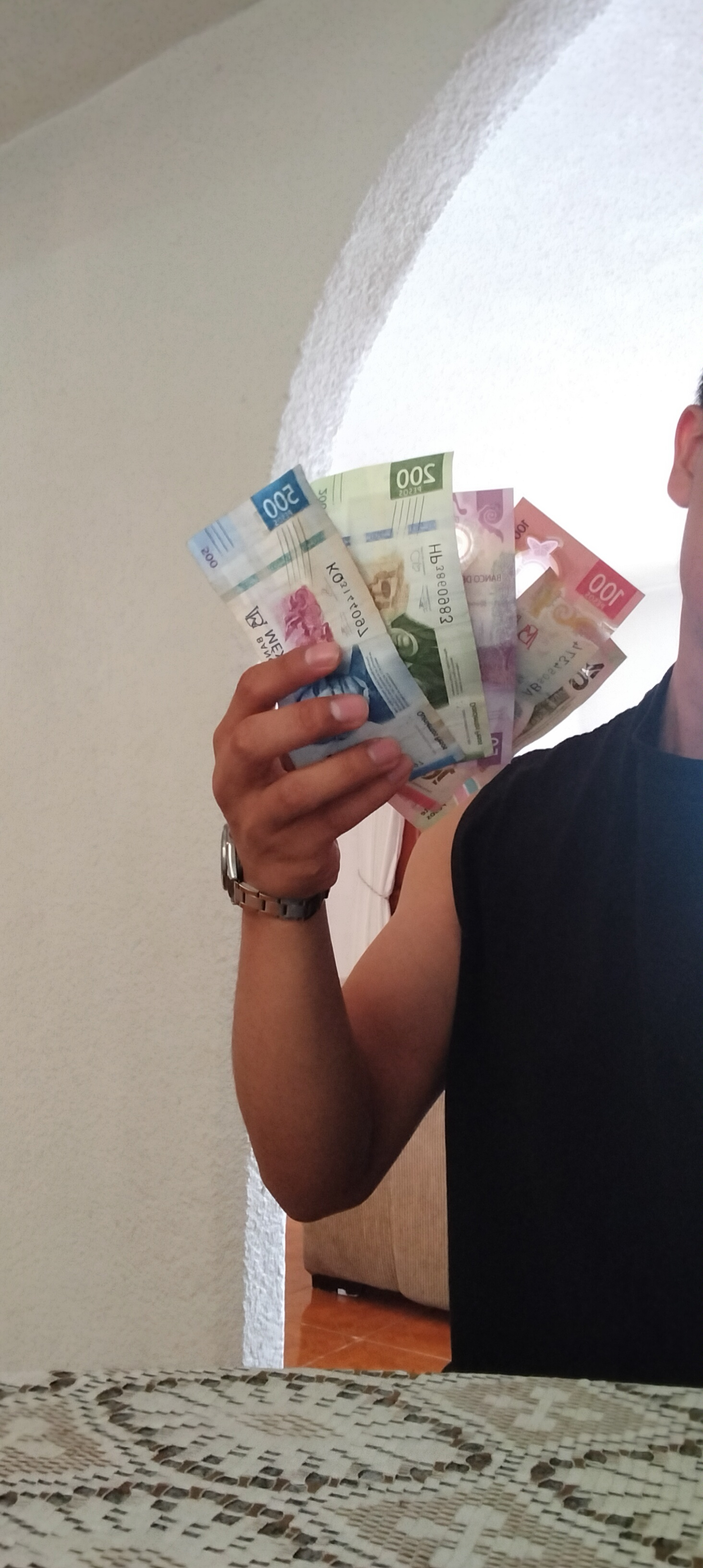billetes: (169, 430, 657, 850)
